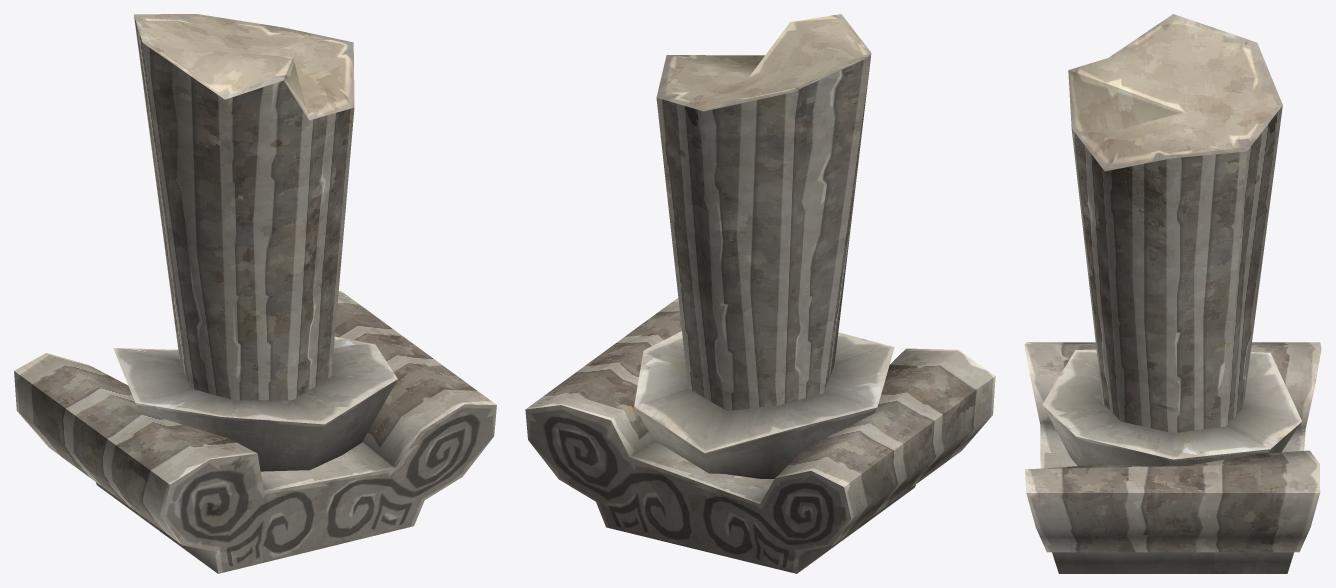
File: Toon_Column_01_Half.fbx
The picture shows the model from 3 angles, left to right: view 1: azimuth 30°, elevation 25°; view 2: azimuth 150°, elevation 25°; view 3: azimuth 270°, elevation 25°; orthographic projection. The views are drawn at different scales.
Parts seen in each view (by area): view 1: Toon_Column_01_Half; view 2: Toon_Column_01_Half; view 3: Toon_Column_01_Half.
Boxes of the visible parts, x1,y1,x2,y2 form: Toon_Column_01_Half: [14, 14, 496, 573]; Toon_Column_01_Half: [525, 14, 995, 573]; Toon_Column_01_Half: [1024, 14, 1321, 573].
Bounding box in the file's own units: 6.1 × 8.61 × 5.01.
